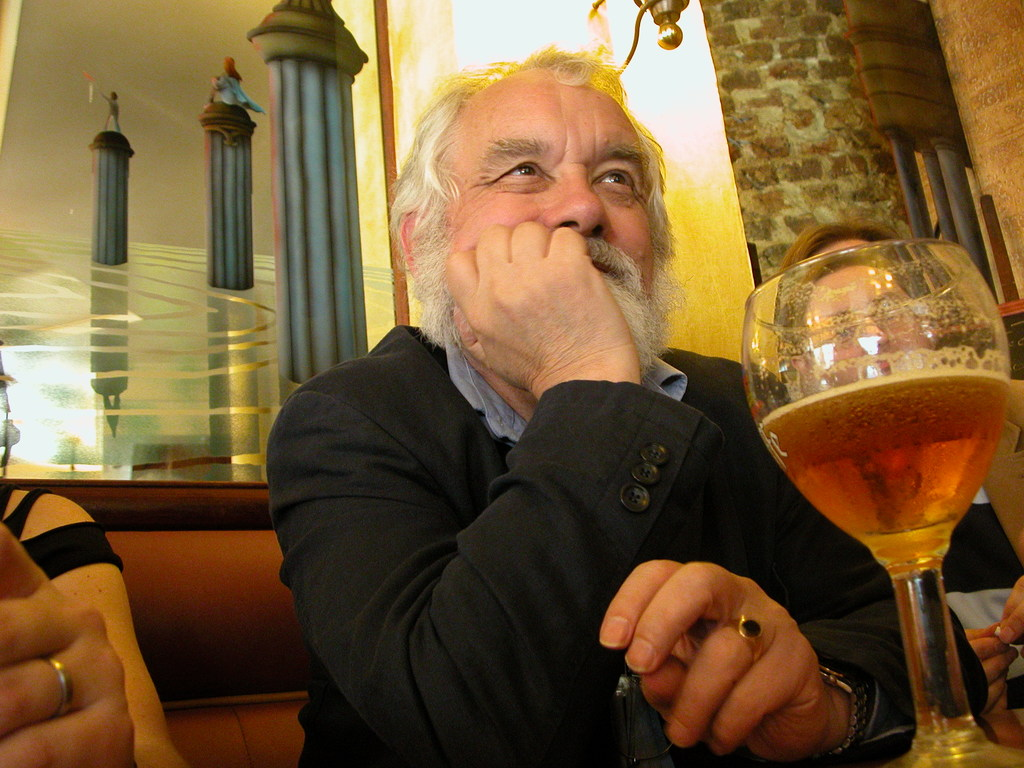Beer: (712, 234, 1015, 767)
